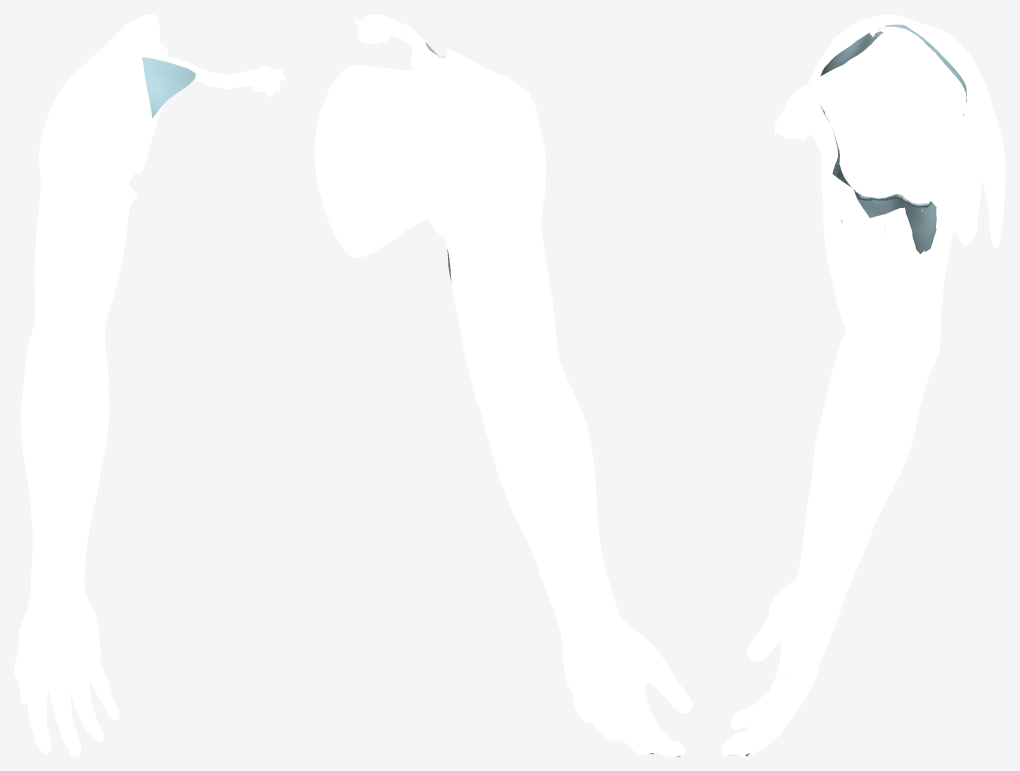
The model's file is right-upper-limb.glb.
3 views of the same model, side by side, from view 1: azimuth 30°, elevation 25°; view 2: azimuth 150°, elevation 25°; view 3: azimuth 270°, elevation 25° (orthographic). The views are drawn at different scales.
Visible parts, largest first — view 1: Deltoid region.r, Anterior region of forearm.r, Anterior region of arm.r, Palmar surfaces of digits of hand.r, Palm.r, Anterior region of elbow.r, Deltoid fascia.r, Anterior region of wrist.r, Clavicle.r, Scapular region.r, Dorsal surfaces of digits of hand.r, Posterior region of arm.r (+4 smaller); view 2: Scapular region.r, Posterior region of arm.r, Posterior region of forearm.r, Deltoid region.r, Posterior region of elbow.r, Dorsum of hand.r, Dorsal surfaces of digits of hand.r, Clavicle.r, Posterior region of wrist.r, Anterior region of arm.r, Lateral border of forearm.r; view 3: Anterior region of forearm.r, Anterior region of arm.r, Posterior region of arm.r, Posterior region of forearm.r, Subscapularis muscle.r, Scapular region.r, Scapula.r, Deltoid region.r, Palmar surfaces of digits of hand.r, Posterior region of elbow.r, Anterior region of elbow.r, Coracobrachialis muscle.r (+19 smaller).
Part boxes in pixels (left/top/right/bottom): Deltoid region.r: left=39, top=36, right=152, bottom=214; Anterior region of forearm.r: left=28, top=374, right=109, bottom=595; Anterior region of arm.r: left=38, top=185, right=137, bottom=334; Palmar surfaces of digits of hand.r: left=26, top=645, right=119, bottom=756; Palm.r: left=25, top=611, right=100, bottom=682; Anterior region of elbow.r: left=25, top=325, right=108, bottom=384; Deltoid fascia.r: left=142, top=57, right=195, bottom=118; Anterior region of wrist.r: left=25, top=588, right=93, bottom=621; Clavicle.r: left=140, top=53, right=269, bottom=88; Scapular region.r: left=108, top=14, right=160, bottom=53; Dorsal surfaces of digits of hand.r: left=14, top=644, right=108, bottom=756; Posterior region of arm.r: left=34, top=185, right=50, bottom=324; Scapular region.r: left=314, top=65, right=460, bottom=257; Posterior region of arm.r: left=429, top=167, right=555, bottom=380; Posterior region of forearm.r: left=483, top=420, right=623, bottom=636; Deltoid region.r: left=418, top=48, right=546, bottom=236; Posterior region of elbow.r: left=469, top=365, right=574, bottom=434; Dorsum of hand.r: left=562, top=644, right=663, bottom=718; Dorsal surfaces of digits of hand.r: left=571, top=657, right=692, bottom=756; Clavicle.r: left=367, top=14, right=443, bottom=71; Posterior region of wrist.r: left=559, top=627, right=643, bottom=658; Anterior region of arm.r: left=533, top=224, right=559, bottom=364; Lateral border of forearm.r: left=575, top=416, right=619, bottom=619; Anterior region of forearm.r: left=795, top=349, right=872, bottom=612; Anterior region of arm.r: left=814, top=138, right=891, bottom=337; Posterior region of arm.r: left=883, top=96, right=972, bottom=338; Posterior region of forearm.r: left=819, top=374, right=929, bottom=613; Subscapularis muscle.r: left=855, top=78, right=969, bottom=218; Scapular region.r: left=937, top=29, right=1005, bottom=248; Scapula.r: left=849, top=30, right=977, bottom=245; Deltoid region.r: left=806, top=14, right=960, bottom=154; Palmar surfaces of digits of hand.r: left=721, top=614, right=789, bottom=754; Posterior region of elbow.r: left=882, top=317, right=940, bottom=395; Anterior region of elbow.r: left=837, top=327, right=889, bottom=396; Coracobrachialis muscle.r: left=843, top=77, right=883, bottom=198.
Size of the model in its own units: 0.34 by 0.7376 by 0.2359.
